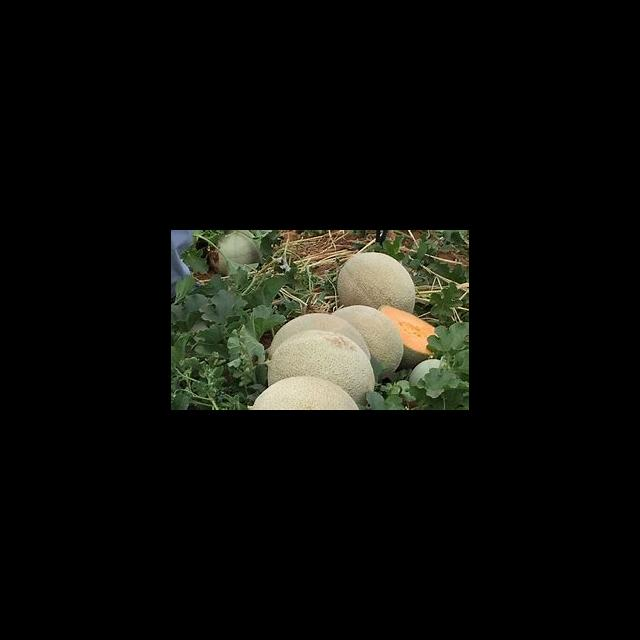Hami Melon: (268, 330, 375, 400), (338, 252, 416, 316), (378, 304, 440, 361)
